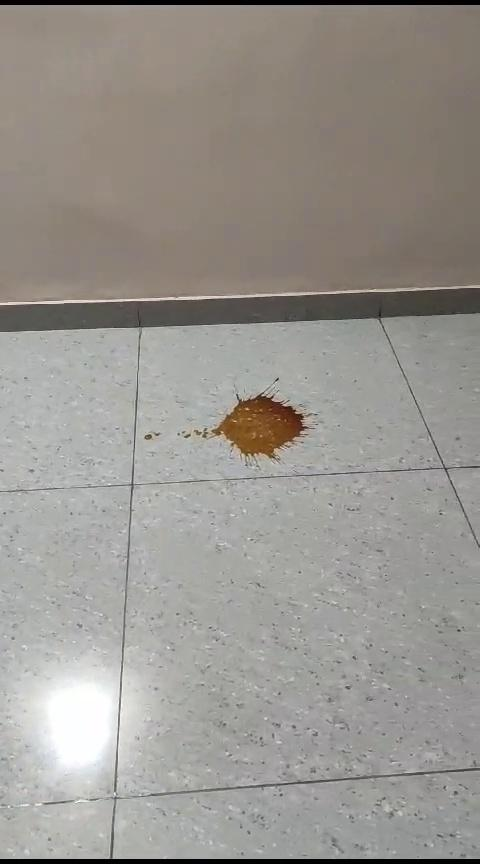dirty_floor: (159, 384, 320, 466)
